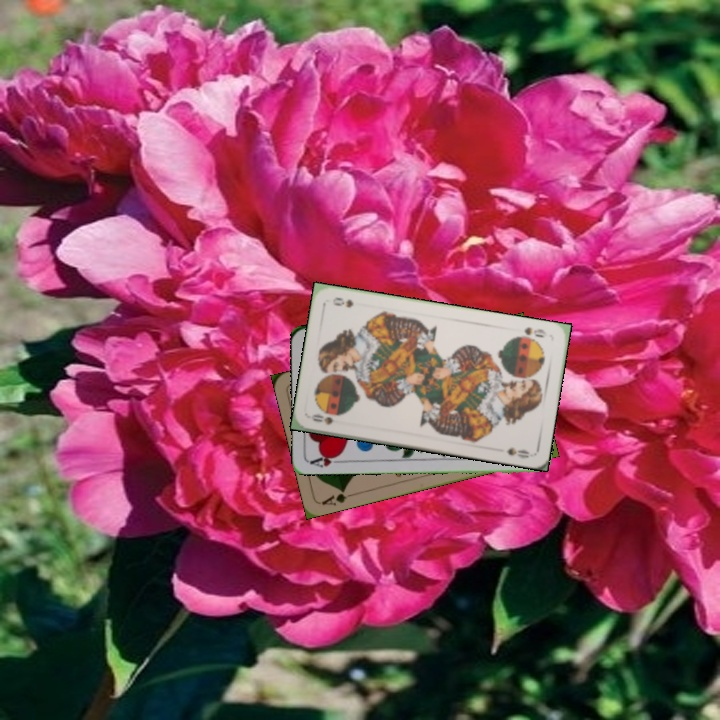GA: (318, 485, 358, 508)
HA: (307, 450, 347, 470)
SO: (512, 323, 550, 342), (308, 410, 336, 428)
